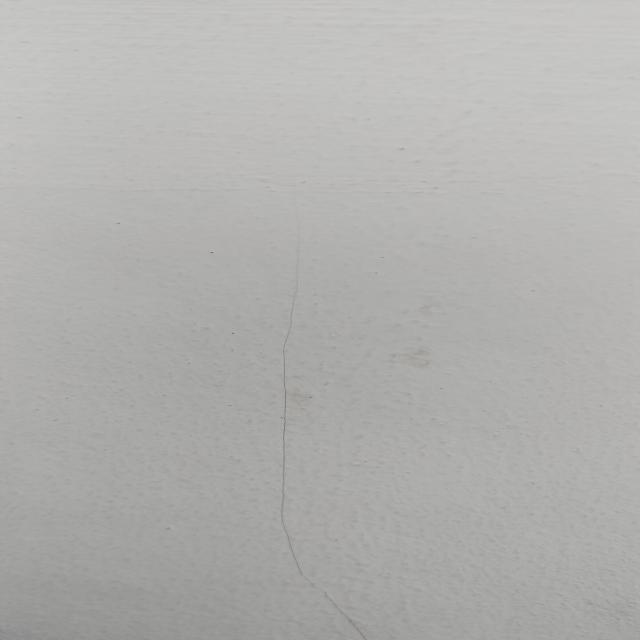Crack: (258, 245, 386, 640)
